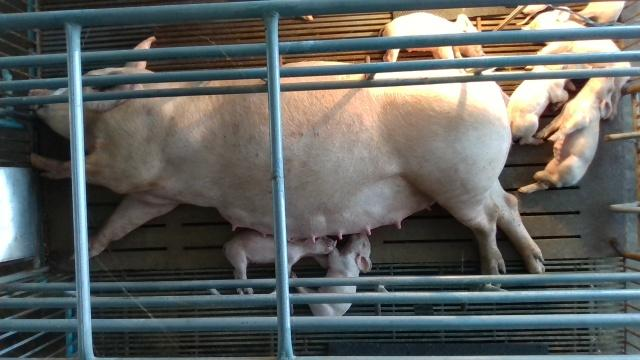piglet: (518, 66, 616, 196), (521, 6, 630, 121), (222, 230, 338, 295), (291, 234, 374, 315), (380, 12, 485, 62), (508, 64, 569, 145)
sow-sleep-lactate: (28, 36, 546, 287)
